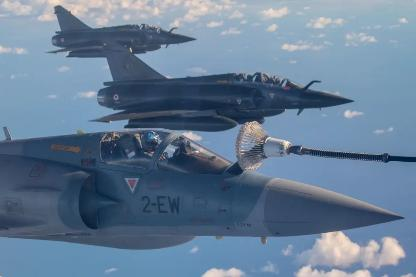Mirage2000: (0, 126, 406, 249), (86, 39, 356, 131), (44, 4, 196, 57)
